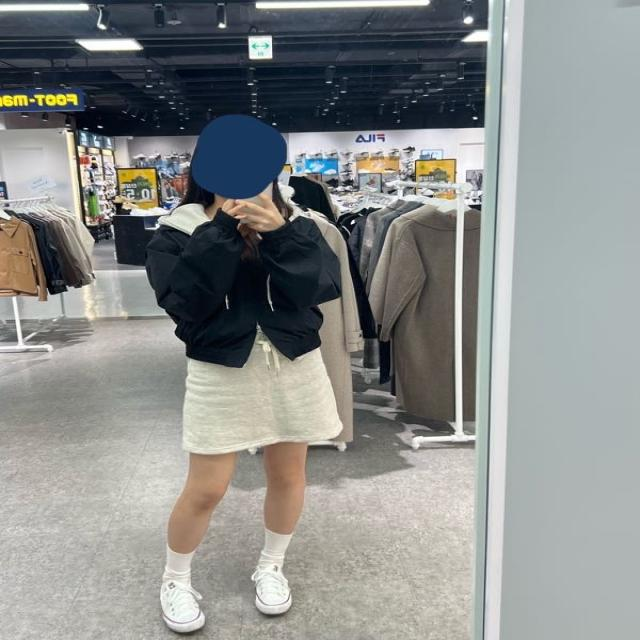padding: (147, 199, 341, 369)
skirt: (182, 329, 346, 455)
